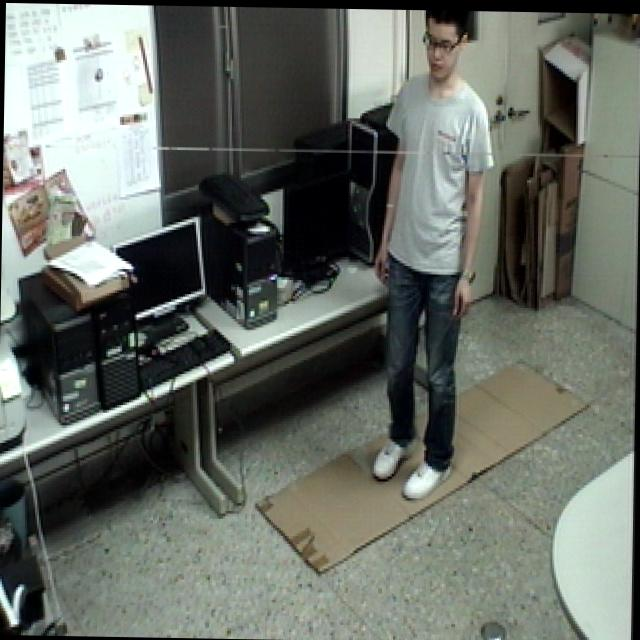stand: (364, 1, 498, 503)
